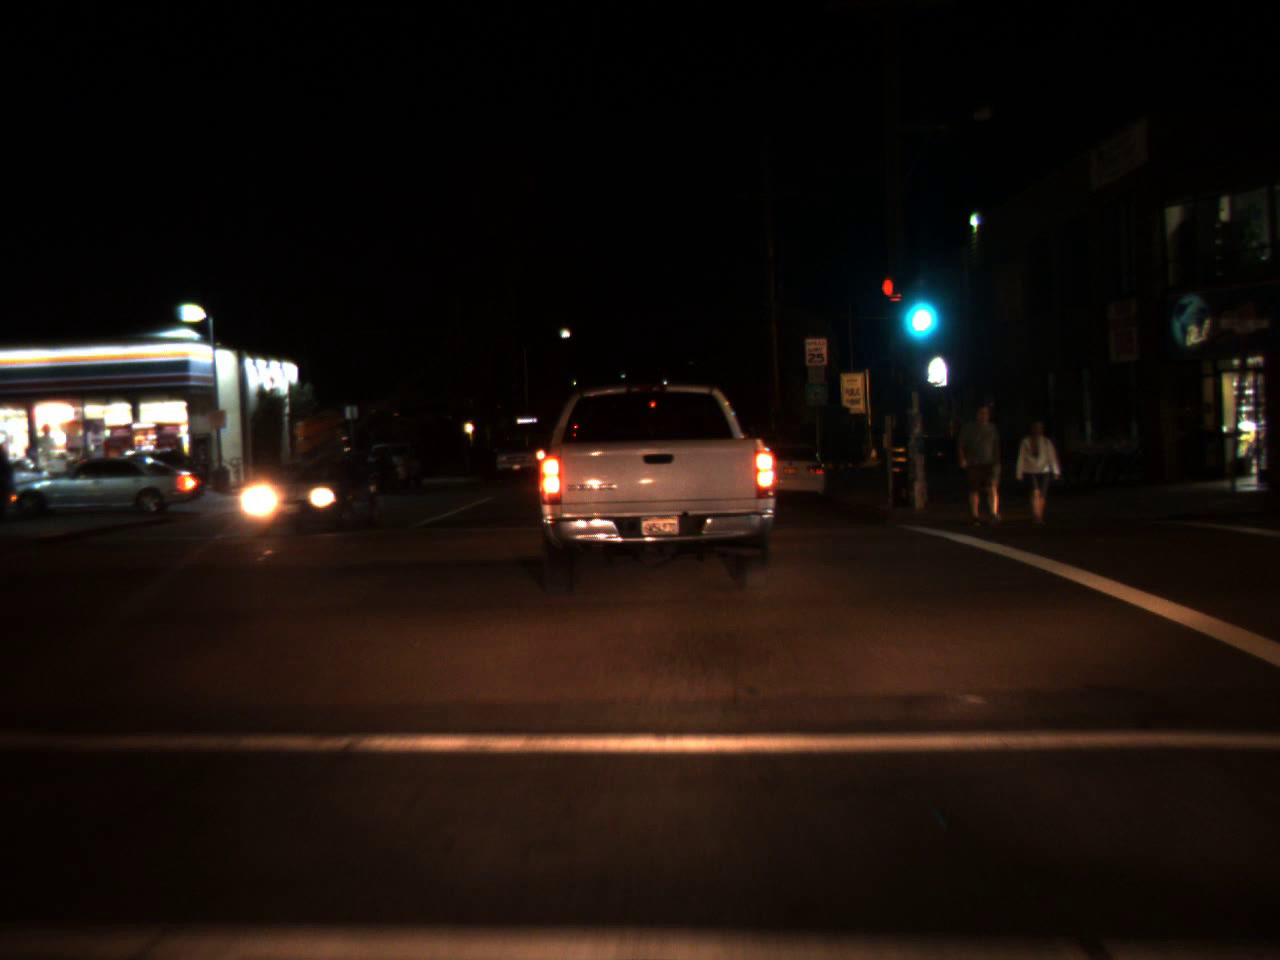go: (895, 267, 940, 345)
